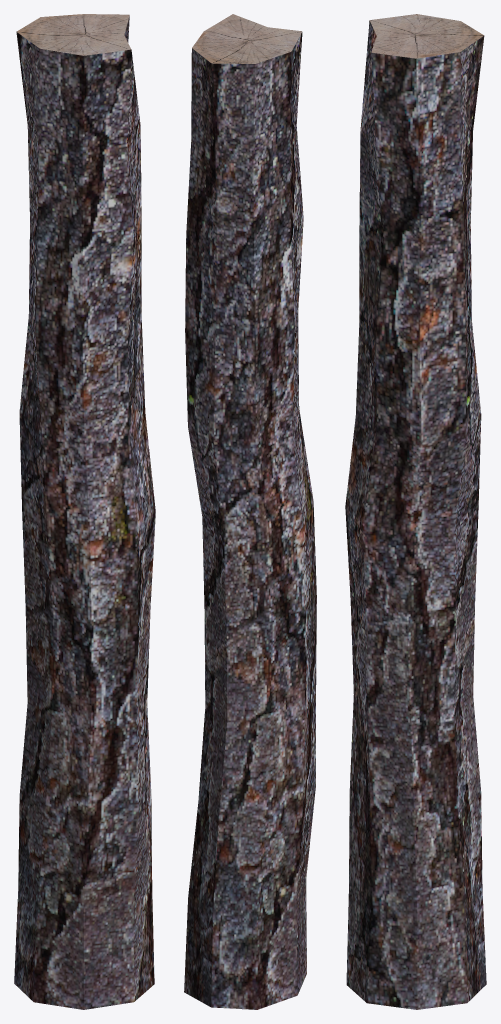
Rendered from FoundationPillar.fbx.
3 renders of one model, left to right at view 1: azimuth 90°, elevation 25°; view 2: azimuth 150°, elevation 25°; view 3: azimuth 270°, elevation 25°, orthographic.
Parts seen in each view (by area): view 1: FoundationPillar; view 2: FoundationPillar; view 3: FoundationPillar.
Boxes of the visible parts, left/top/right/bottom form: FoundationPillar: left=14, top=14, right=155, bottom=1009; FoundationPillar: left=184, top=14, right=316, bottom=1009; FoundationPillar: left=345, top=14, right=486, bottom=1009.
Size of the model in its own units: 22.46 by 189 by 25.46.
Materials: 1 (1 with a texture image).
